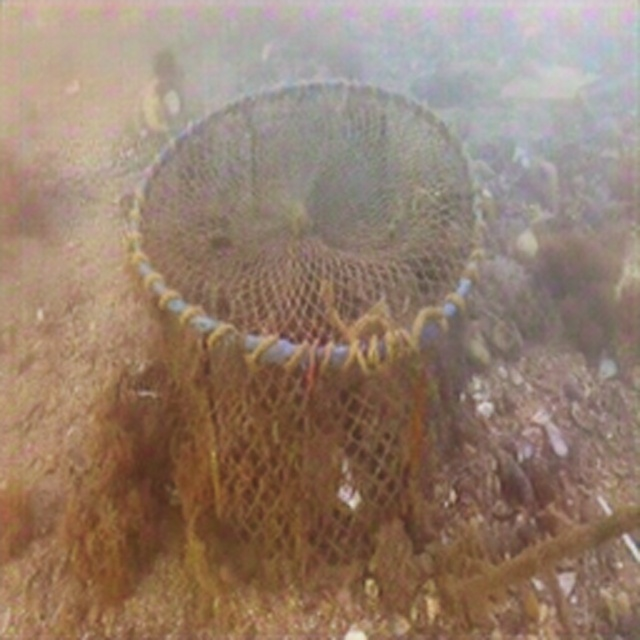mine: (129, 78, 485, 596)
